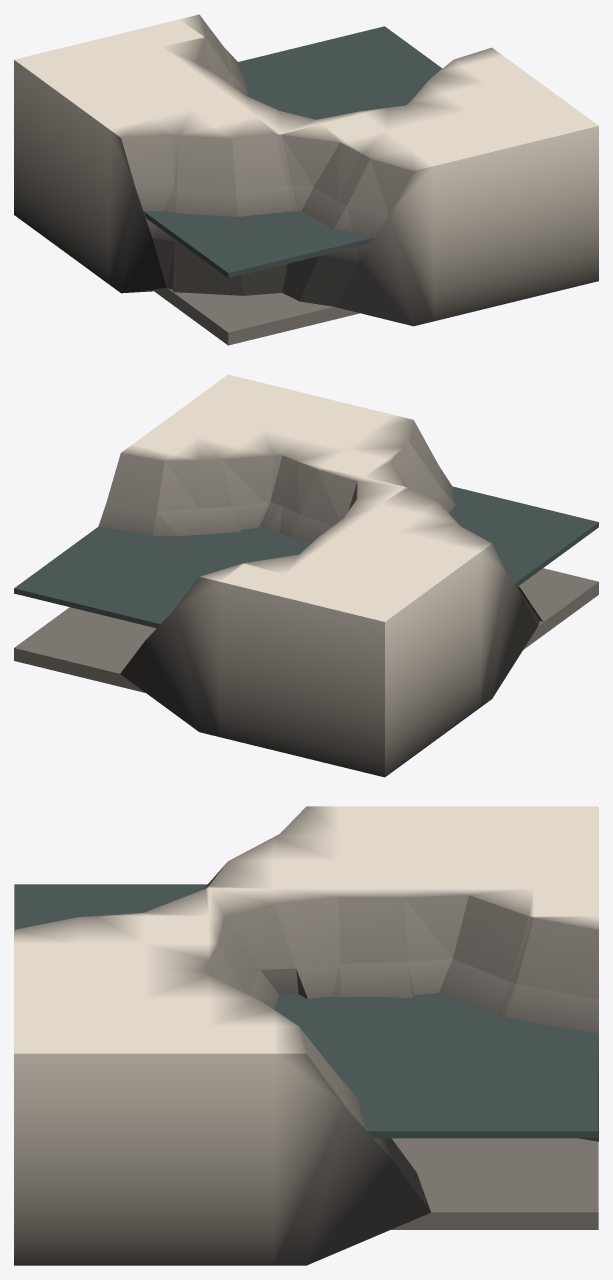
Rendered from SM_VKI_Ground_Stream_XOXO_Q00.fbx.
The picture shows the model from 3 angles, top to bottom: view 1: azimuth 30°, elevation 25°; view 2: azimuth 150°, elevation 25°; view 3: azimuth 270°, elevation 25°; orthographic projection. The views are drawn at different scales.
Visible parts, largest first — view 1: SM_VKI_Ground_Stream_XOXO_Q00.001; view 2: SM_VKI_Ground_Stream_XOXO_Q00.001; view 3: SM_VKI_Ground_Stream_XOXO_Q00.001.
Boxes of the visible parts, bbox=[...] form: SM_VKI_Ground_Stream_XOXO_Q00.001: bbox=[14, 14, 598, 345]; SM_VKI_Ground_Stream_XOXO_Q00.001: bbox=[14, 374, 598, 777]; SM_VKI_Ground_Stream_XOXO_Q00.001: bbox=[14, 806, 598, 1265].
Bounding box in the file's own units: 1.5 × 0.6 × 1.5.
